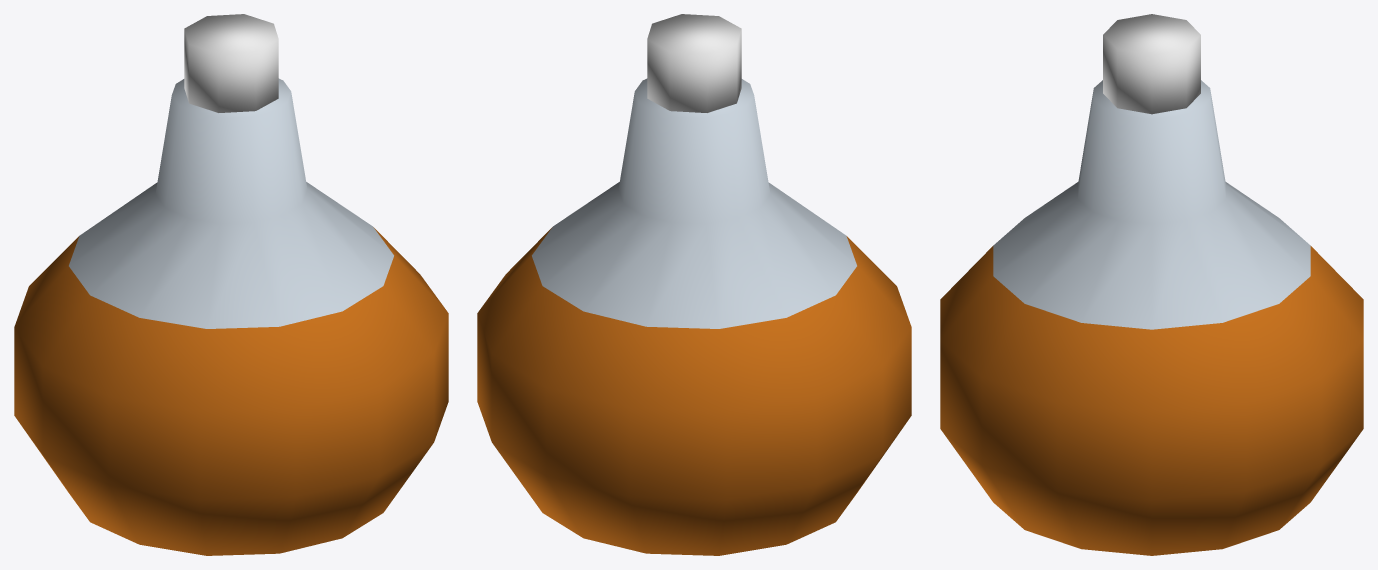
File: orange_dye.glb
3 renders of one model, left to right at view 1: azimuth 30°, elevation 25°; view 2: azimuth 150°, elevation 25°; view 3: azimuth 270°, elevation 25°, orthographic.
Parts seen in each view (by area): view 1: orange_dye_v0; view 2: orange_dye_v0; view 3: orange_dye_v0.
Part boxes in pixels (<box>): orange_dye_v0: <box>14,14,448,555</box>; orange_dye_v0: <box>477,14,911,555</box>; orange_dye_v0: <box>940,14,1363,555</box>.
Size of the model in its own units: 0.24 by 0.276 by 0.234.
